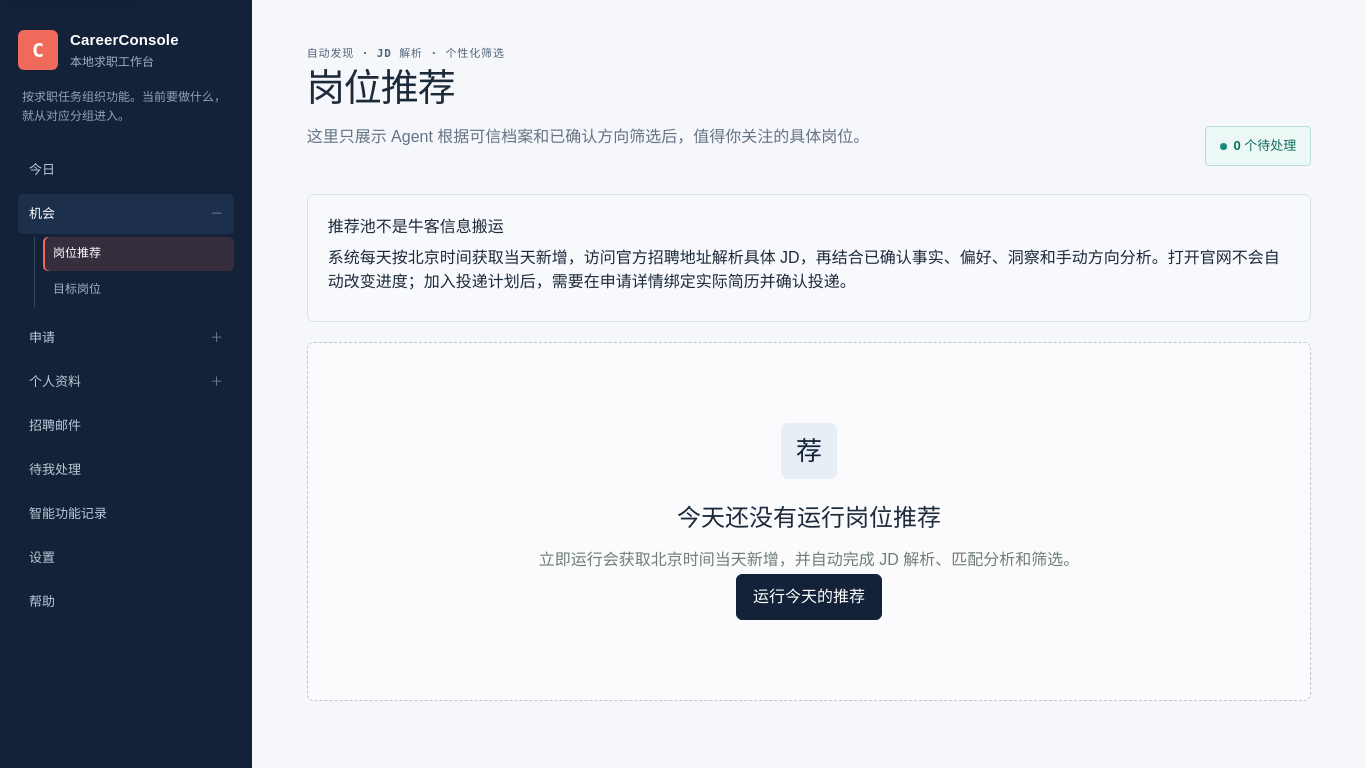
Test: Career app shell › shows the concrete outcome of a recommendation sync
Click the button "运行今天的推荐". click: (809, 597)
box: [736, 574, 882, 620]
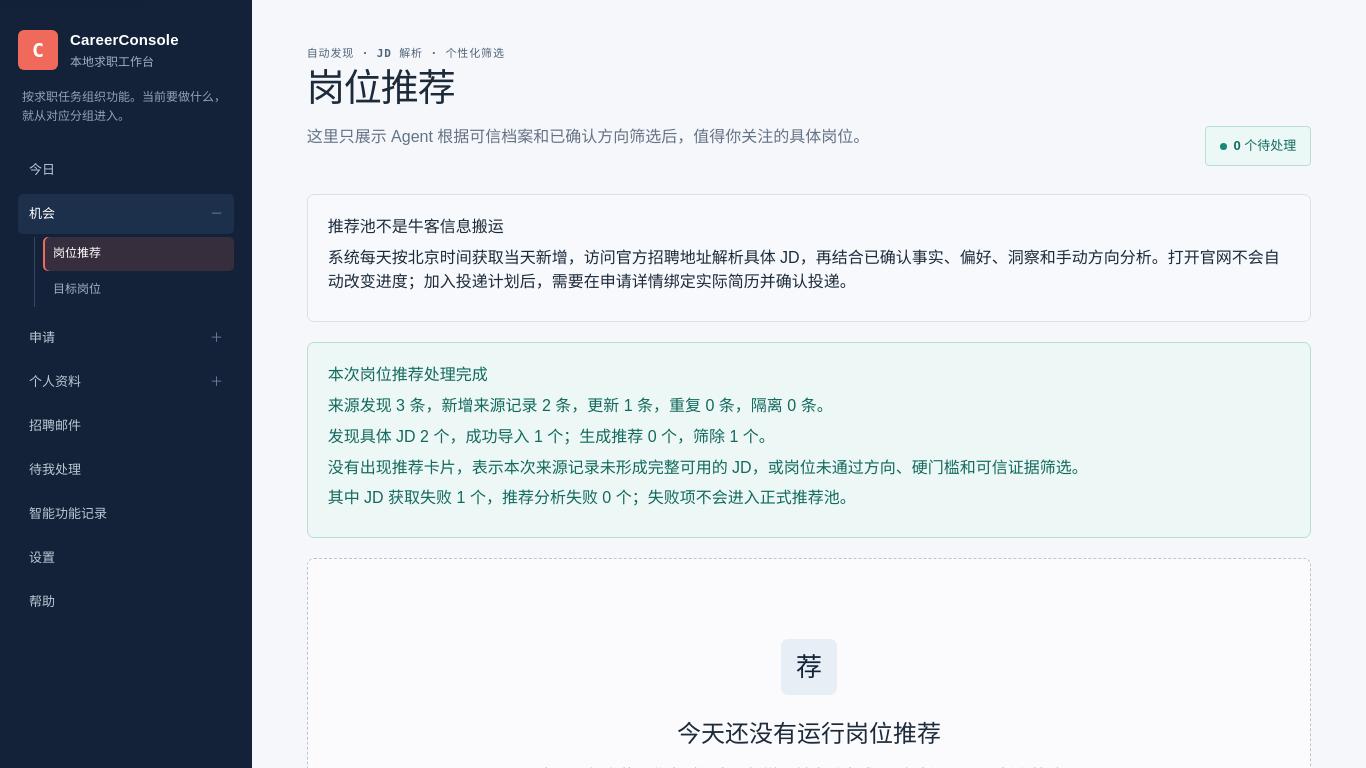
Now the text "本次岗位推荐处理完成" is shown, box [328, 366, 488, 383]
Now the text "来源发现 3 条，新增来源记录 2 条，更新 1 条，重复 0 条，隔离 0 条。" is shown, box [328, 397, 833, 414]
Now the text "发现具体 JD 2 个，成功导入 1 个；生成推荐 0 个，筛除 1 个。" is shown, box [328, 428, 775, 445]
